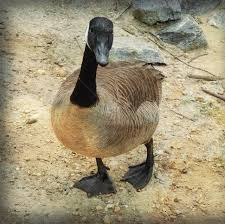goose: (49, 15, 165, 200)
